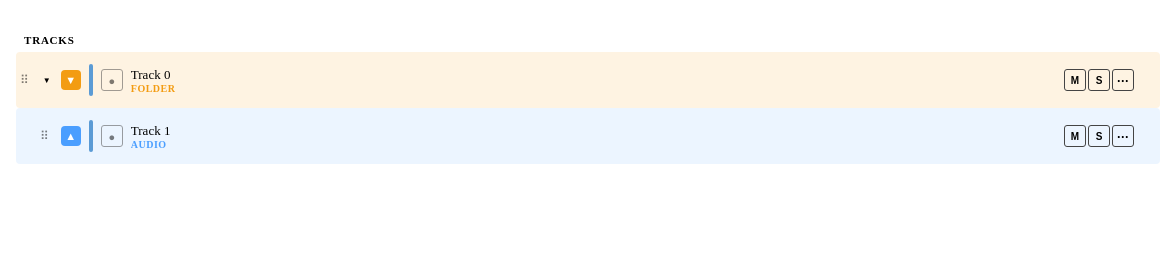
Test: TrackHeaders › context menu shows Move Out of Folder for child tracks
Right-click the element with class "th-row" showing "⠿ ▲ ● Track 1 AUDIO M S ⋯".
right_click(588, 136)  # box [16,108,1160,164]
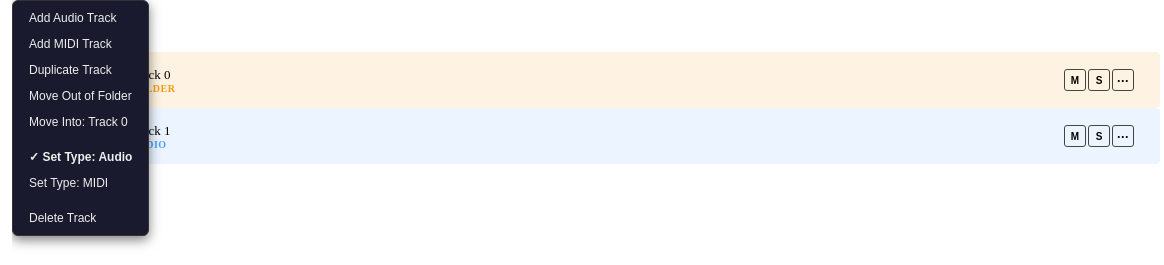
Expected: the button "Move Out of Folder" is shown, [13,83,148,109]
